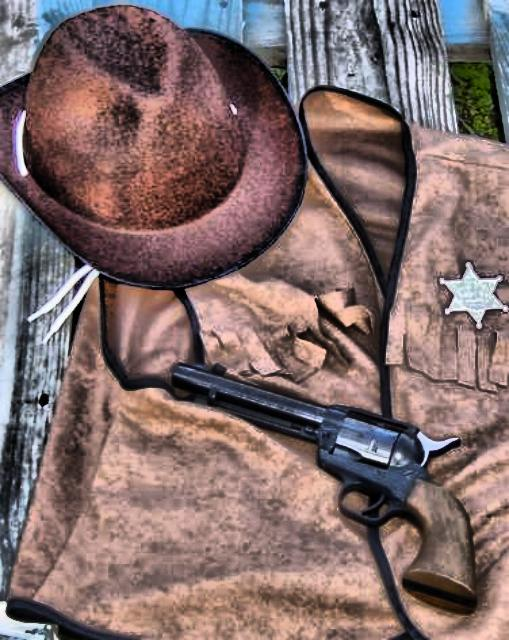pistol: (170, 357, 479, 613)
